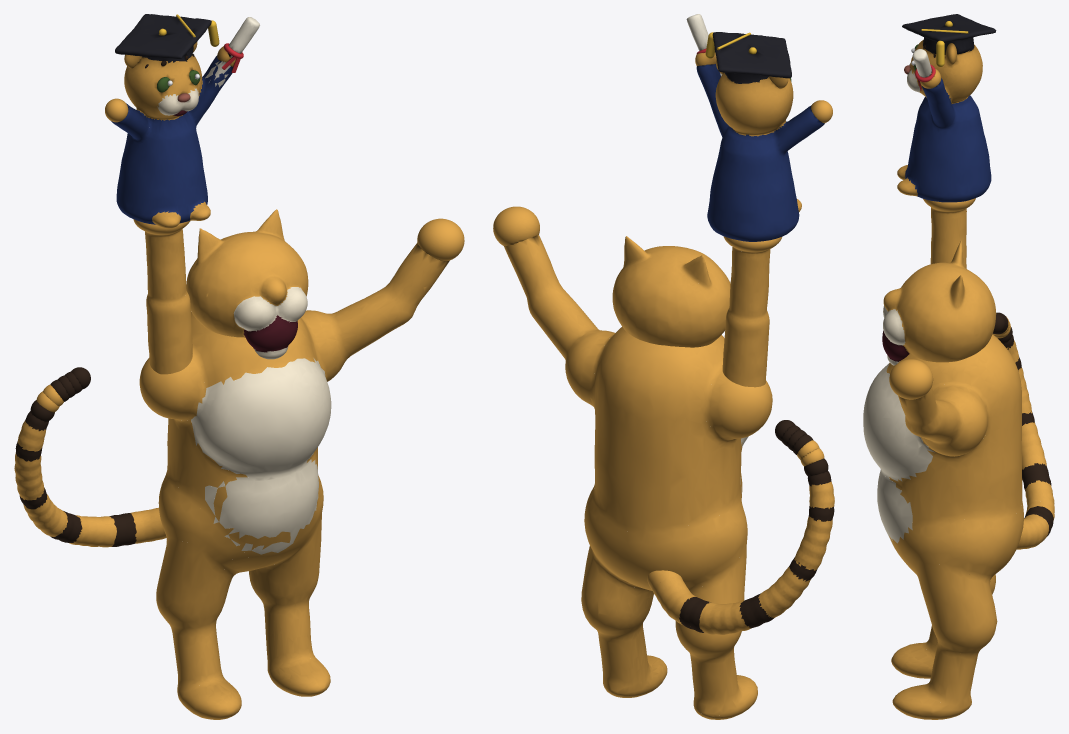
Rendered from jag-ar-stolt-over-dig.glb.
3 renders of one model, left to right at view 1: azimuth 30°, elevation 25°; view 2: azimuth 150°, elevation 25°; view 3: azimuth 270°, elevation 25°, orthographic. The views are drawn at different scales.
Parts seen in each view (by area): view 1: mae__r0, filhote__r0, cabeca__r0, rabo__r0, bracoD__r0, mae__r1; view 2: mae__r0, filhote__r0, cabeca__r0, rabo__r0, bracoD__r0, mae__r1; view 3: mae__r0, filhote__r0, cabeca__r0, rabo__r0, bracoD__r0, mae__r1.
Part boxes in pixels (<box>): mae__r0: <box>139,242,449,719</box>; filhote__r0: <box>111,14,259,228</box>; cabeca__r0: <box>186,209,308,359</box>; rabo__r0: <box>14,411,166,547</box>; bracoD__r0: <box>133,219,192,374</box>; mae__r1: <box>417,218,464,260</box>; mae__r0: <box>504,235,772,719</box>; filhote__r0: <box>686,14,824,241</box>; cabeca__r0: <box>612,236,730,347</box>; rabo__r0: <box>647,471,834,634</box>; bracoD__r0: <box>722,236,781,387</box>; mae__r1: <box>493,206,539,246</box>; mae__r0: <box>863,334,1023,719</box>; filhote__r0: <box>897,14,996,202</box>; cabeca__r0: <box>882,241,996,365</box>; rabo__r0: <box>1003,334,1054,549</box>; bracoD__r0: <box>923,198,975,268</box>; mae__r1: <box>889,359,933,399</box>.
Size of the model in its own units: 2 by 3.38 by 0.9145.
